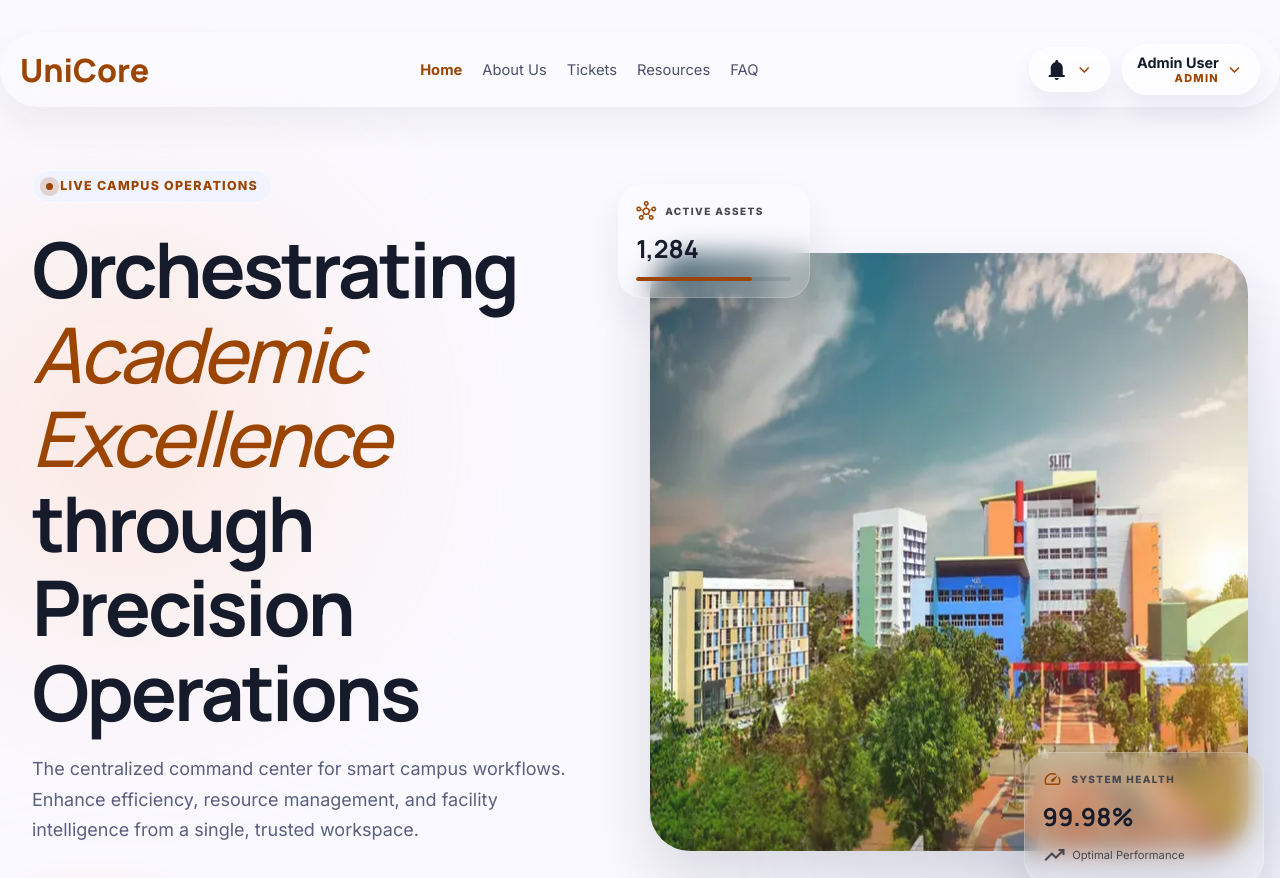
Test: routes admin users to the dashboard
Click the button "Admin User ADMIN": (1191, 70) x1=1122 y1=44 x2=1260 y2=95
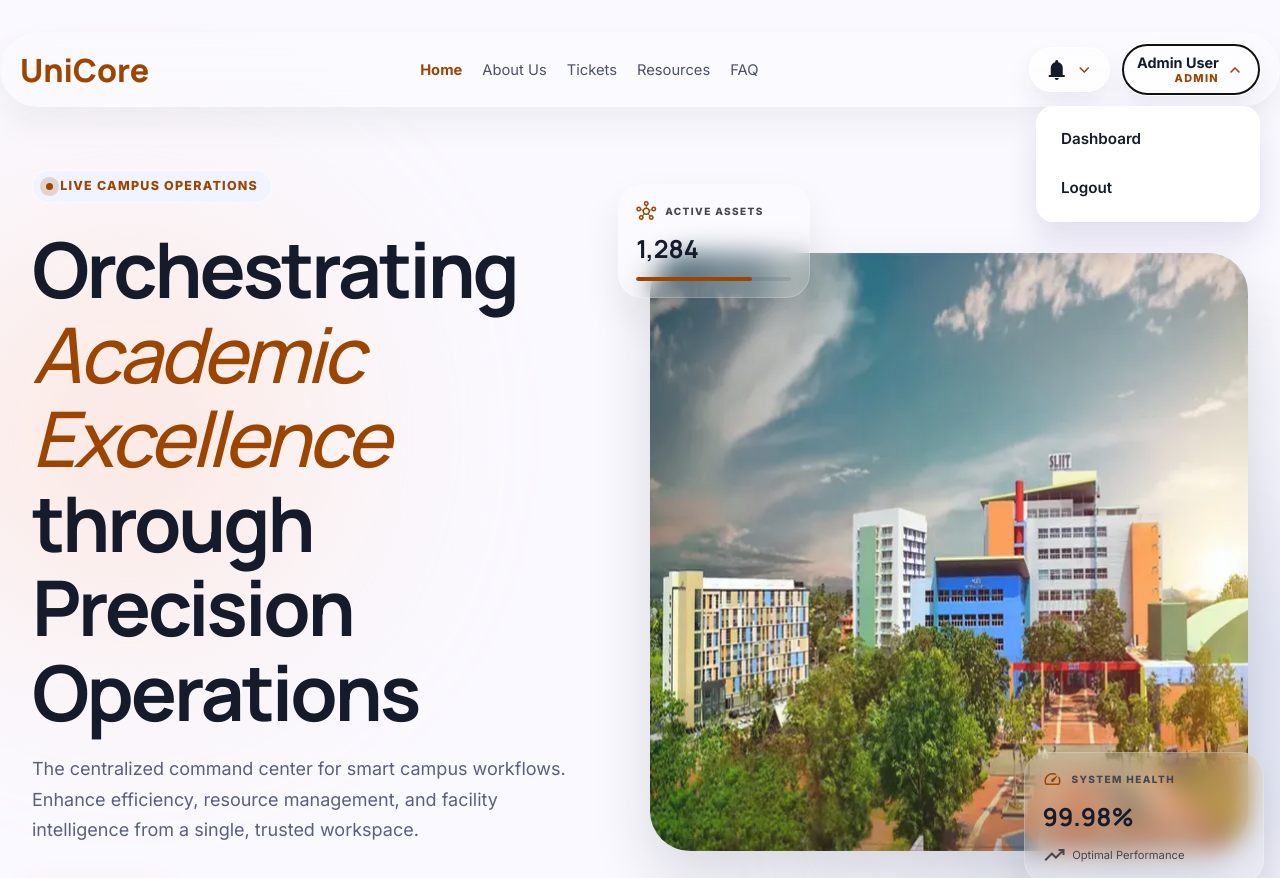
Click the menu item "Dashboard": (1148, 140) x1=1046 y1=116 x2=1250 y2=164
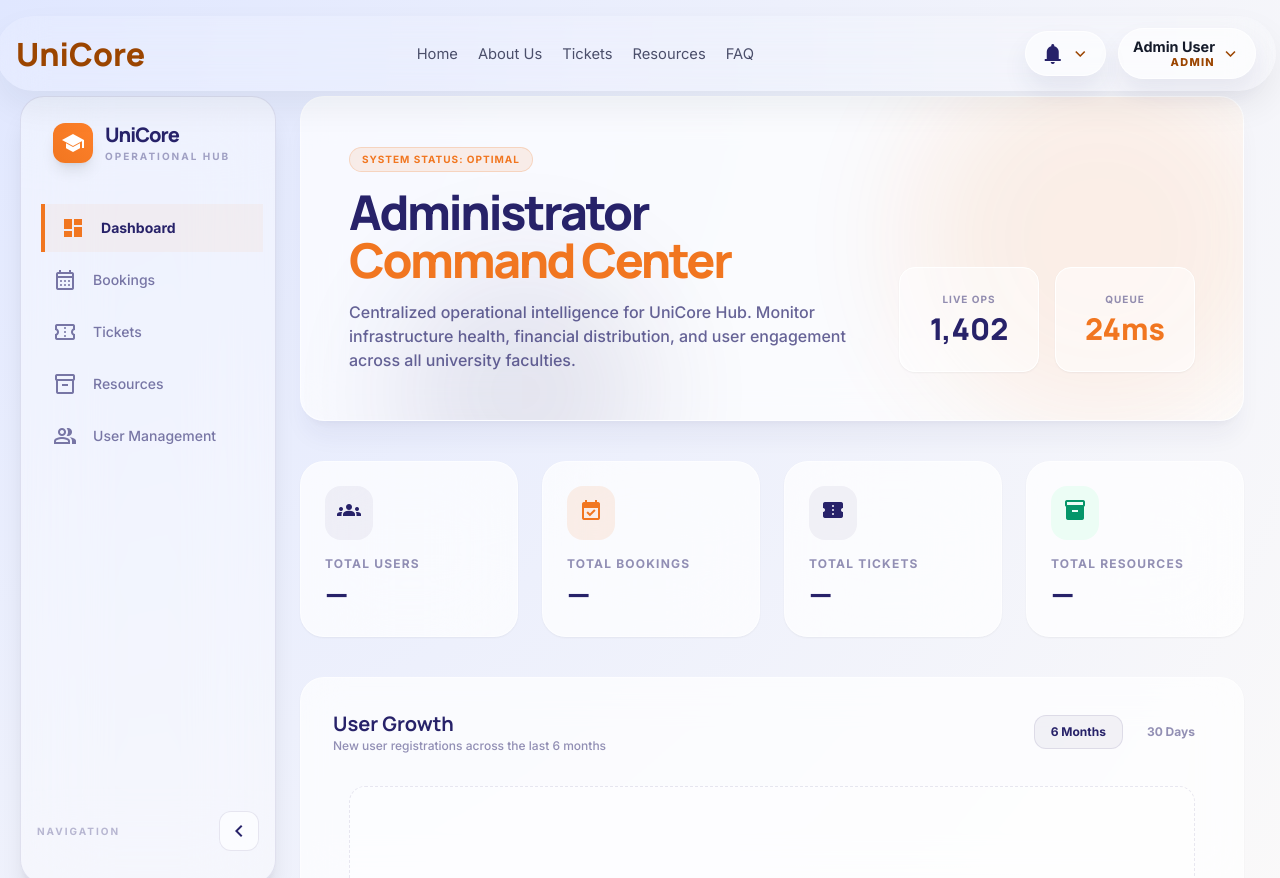
Expected: the heading "Administrator Command Center" is shown, x1=349 y1=179 x2=730 y2=292
